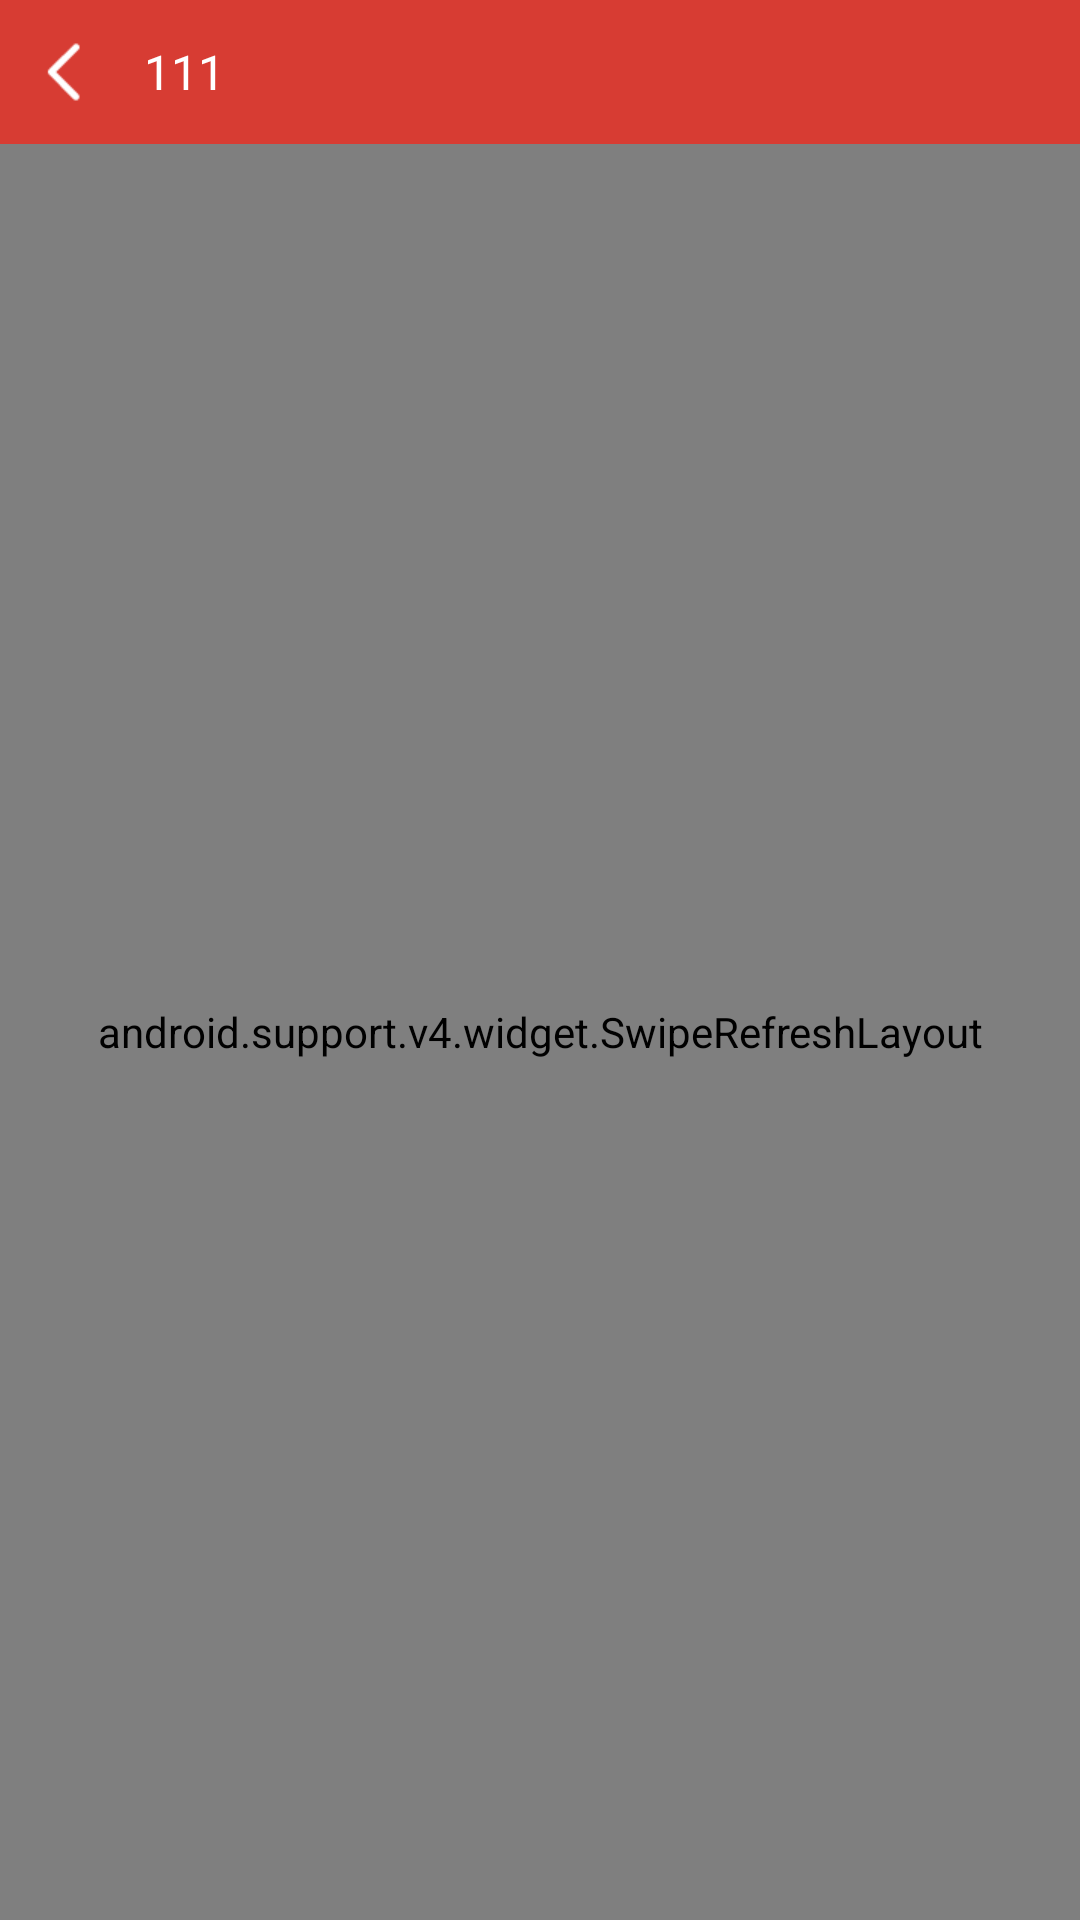

Named icons in this screenshot (1080 x 1920) and their centers, point (x, y):
back: point (63, 72)
